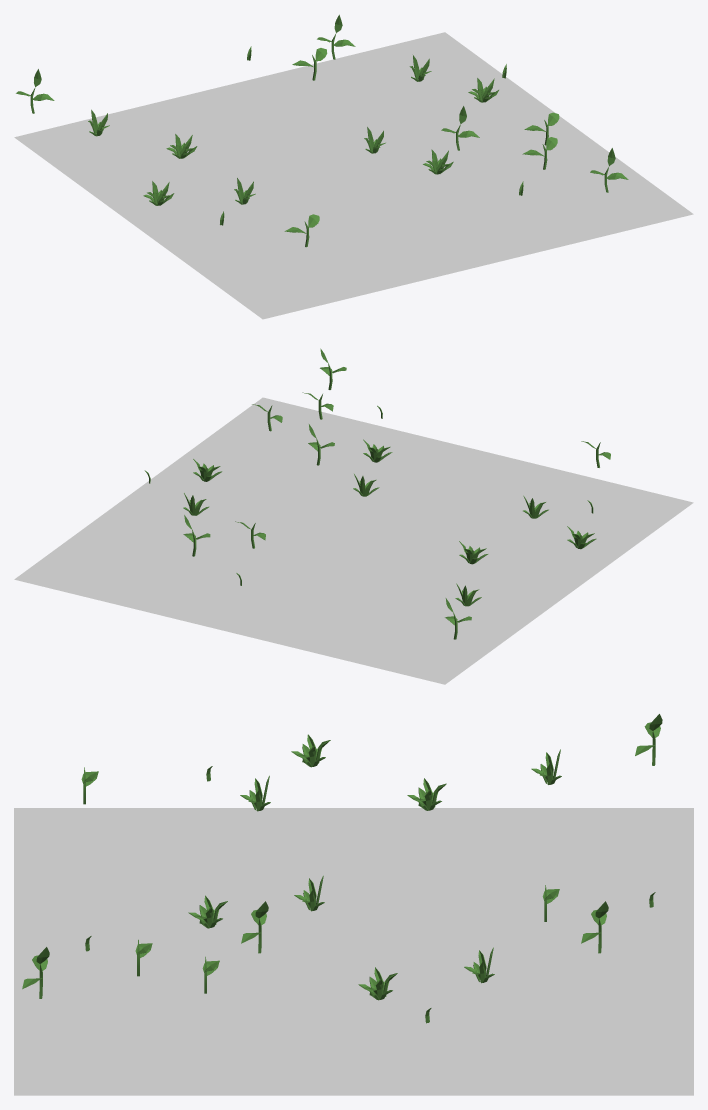
File: grass.fbx
3 views of the same model, one above another, from view 1: azimuth 30°, elevation 25°; view 2: azimuth 150°, elevation 25°; view 3: azimuth 270°, elevation 25° (orthographic). The views are drawn at different scales.
Parts seen in each view (by area): view 1: Plane.003; view 2: Plane.003; view 3: Plane.003.
Part boxes in pixels (x1=…): Plane.003: x1=14, y1=32, x2=693, y2=319; Plane.003: x1=14, y1=397, x2=693, y2=684; Plane.003: x1=14, y1=808, x2=693, y2=1095.
Size of the model in its own units: 206 by 33.27 by 200.
